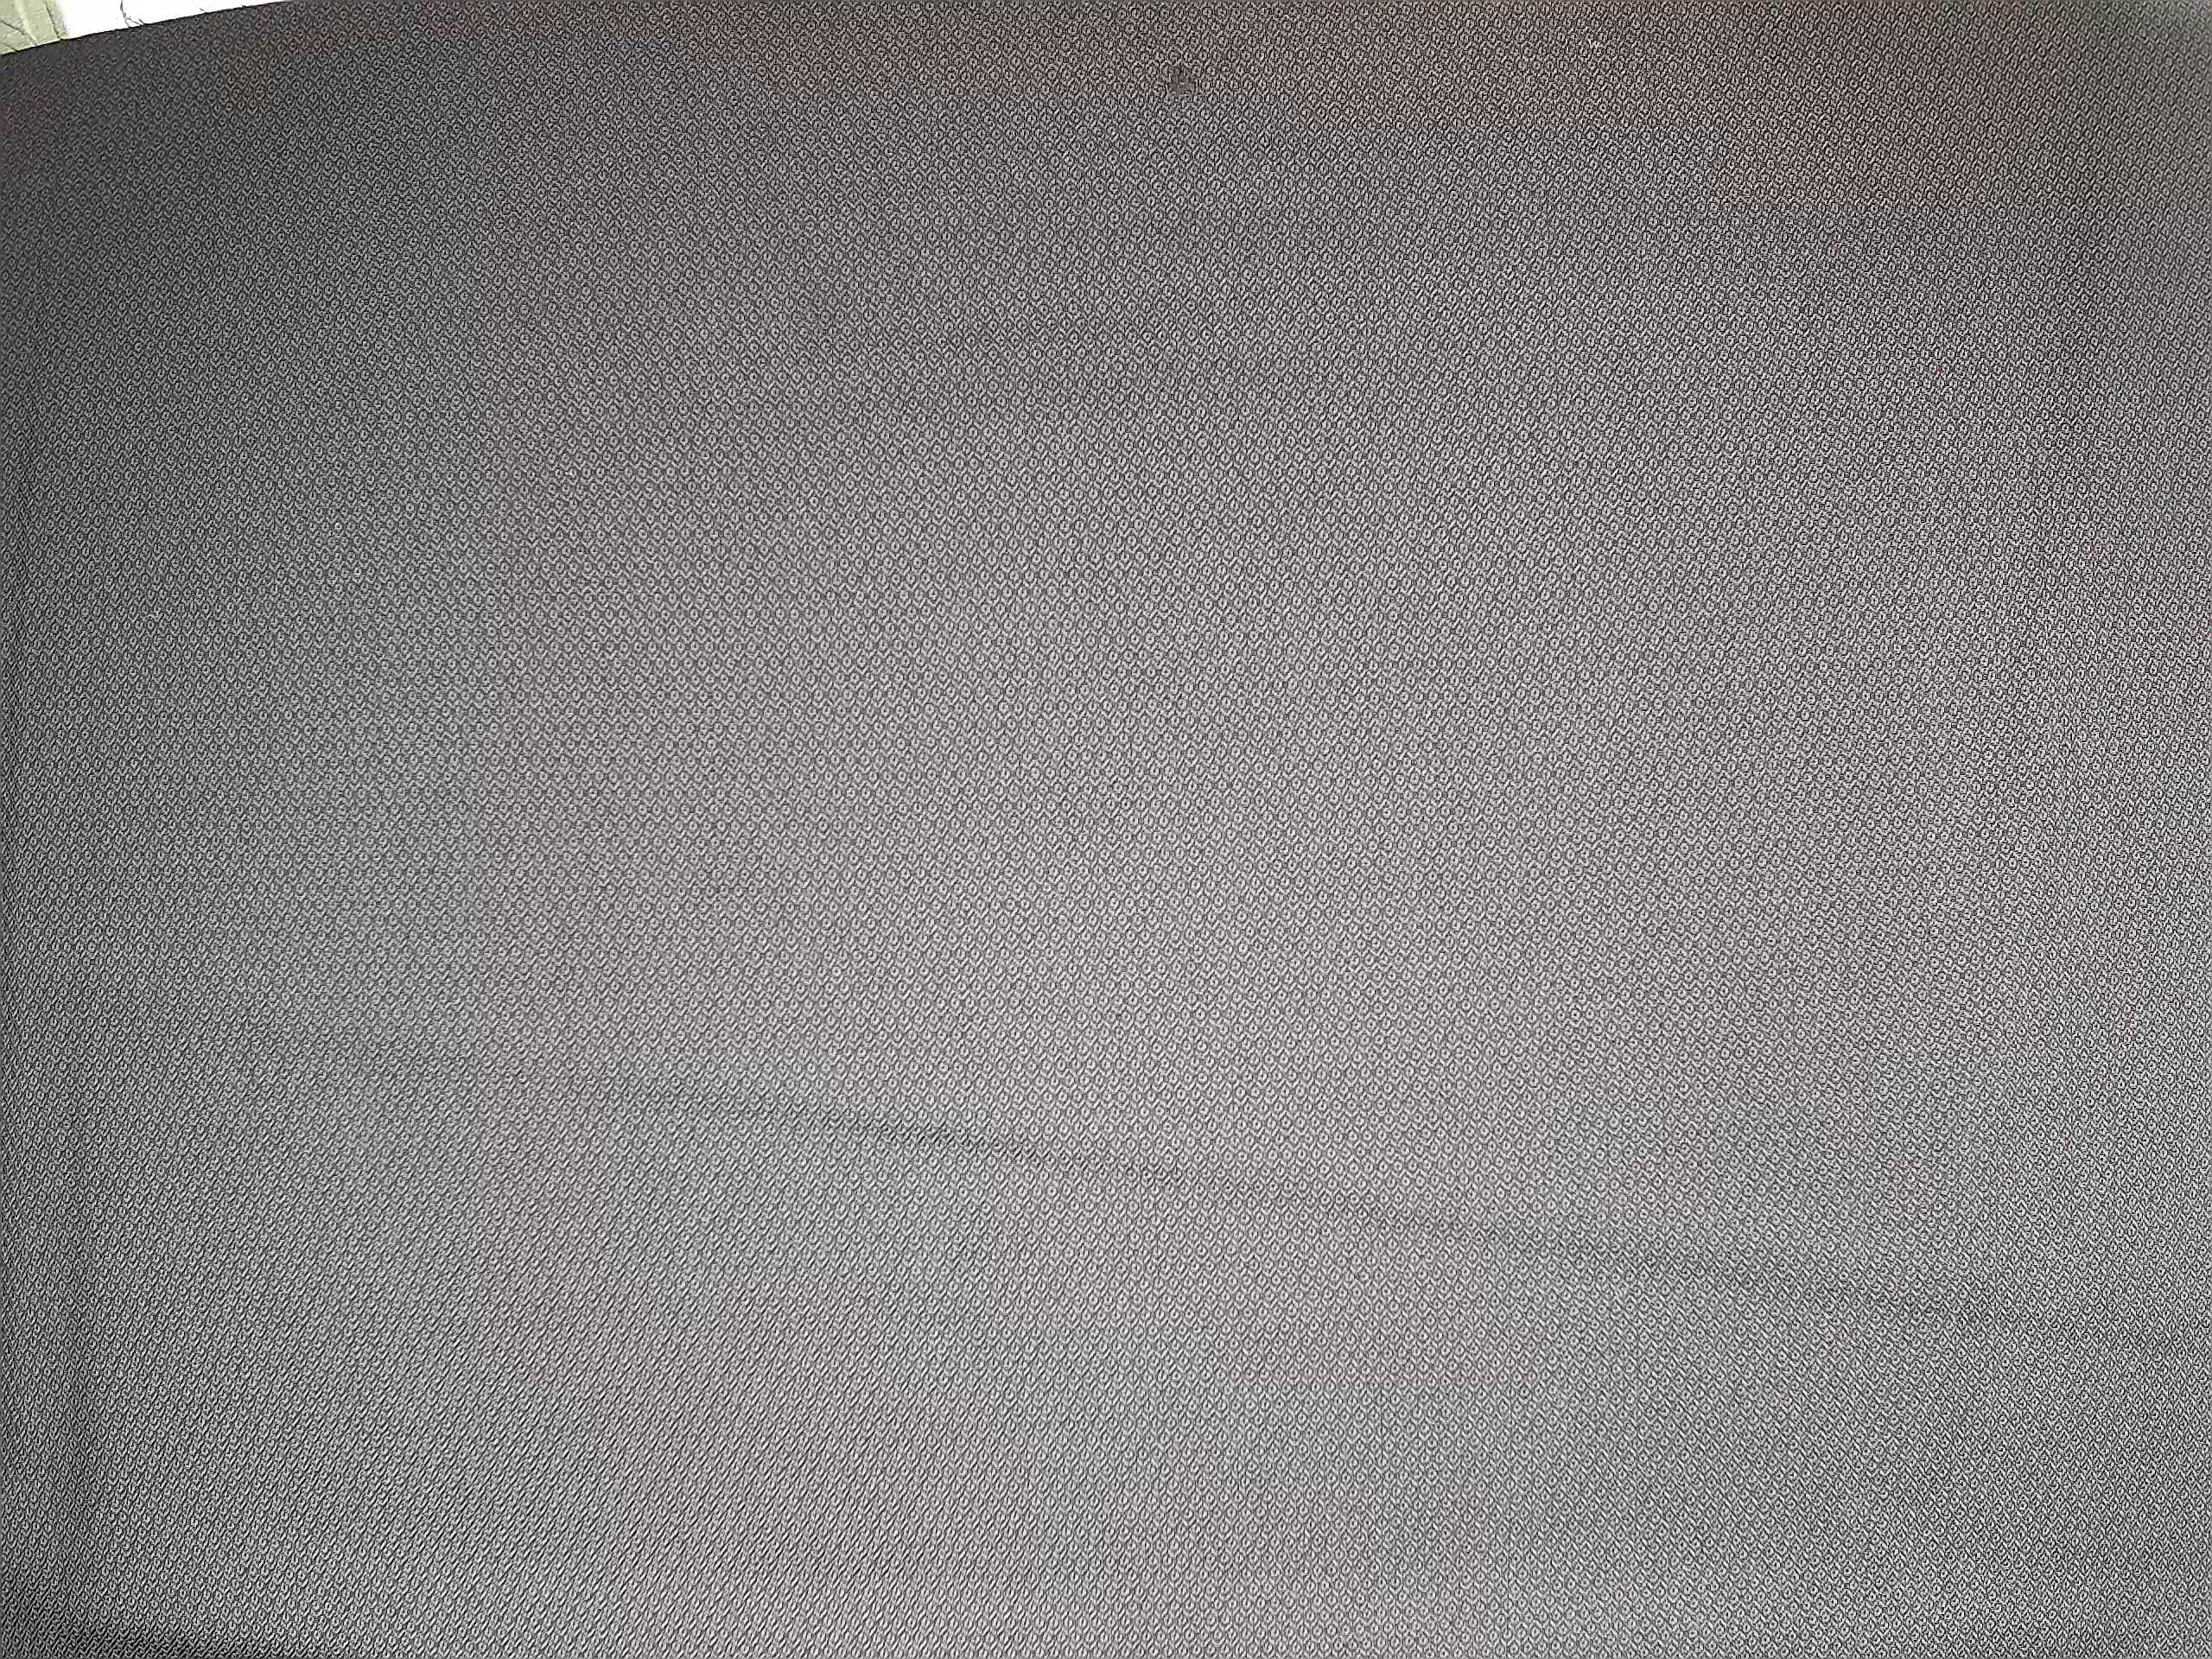brushed-hole: (1153, 47, 1217, 112)
